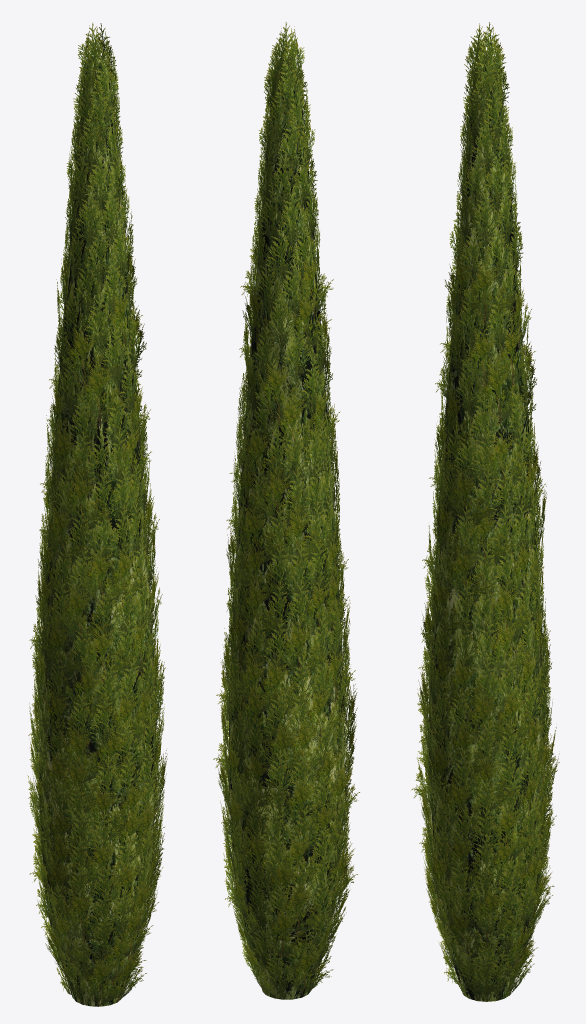
Rendered from Tree_tall_high.FBX.
The picture shows the model from 3 angles, left to right: view 1: azimuth 30°, elevation 25°; view 2: azimuth 150°, elevation 25°; view 3: azimuth 270°, elevation 25°; orthographic projection.
Visible parts, largest first — view 1: Tree_tall_high; view 2: Tree_tall_high; view 3: Tree_tall_high.
Part boxes in pixels (box(x1,y1,x2,y2)): Tree_tall_high: box(27, 23, 167, 1006); Tree_tall_high: box(213, 22, 359, 999); Tree_tall_high: box(411, 22, 559, 1001).
Bounding box in the file's own units: 169 × 178 × 1123.
